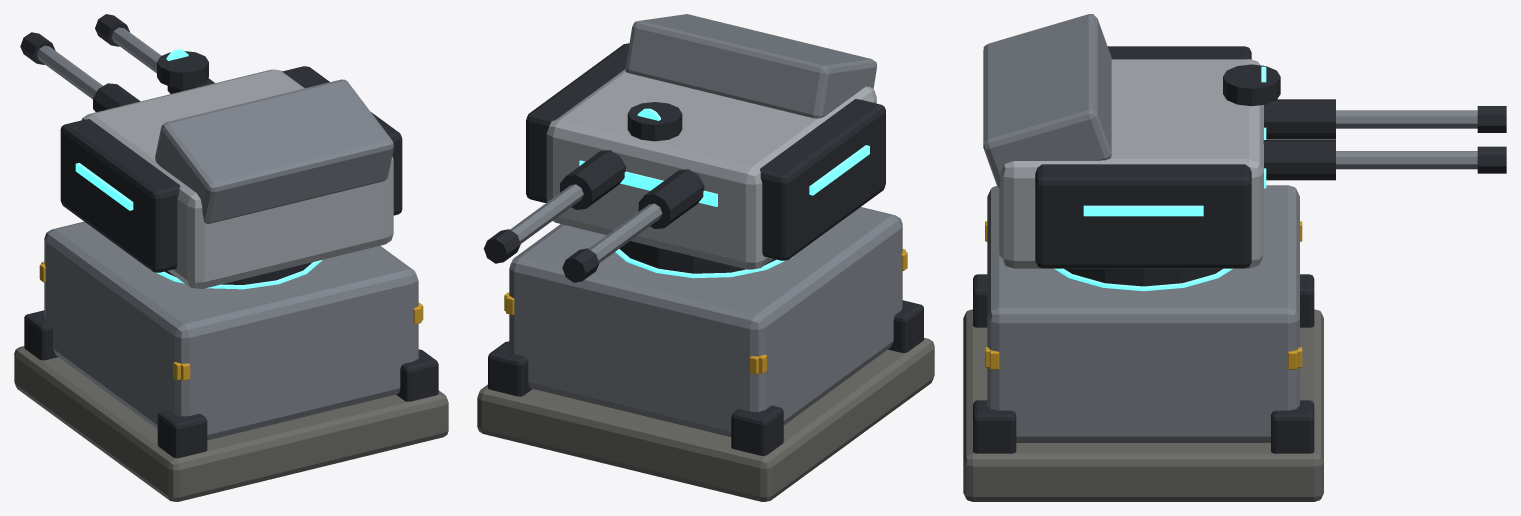
3 renders of one model, left to right at view 1: azimuth 30°, elevation 25°; view 2: azimuth 150°, elevation 25°; view 3: azimuth 270°, elevation 25°, orthographic. The views are drawn at different scales.
Parts seen in each view (by area): view 1: TurretBase, TurretHead, TurretGun; view 2: TurretBase, TurretHead, TurretGun; view 3: TurretBase, TurretHead, TurretGun.
Part boxes in pixels (x1=…): TurretBase: x1=14, y1=221, x2=448, y2=501; TurretHead: x1=60, y1=49, x2=402, y2=288; TurretGun: x1=20, y1=14, x2=214, y2=112; TurretBase: x1=477, y1=207, x2=934, y2=501; TurretHead: x1=526, y1=14, x2=885, y2=269; TurretGun: x1=483, y1=150, x2=704, y2=282; TurretBase: x1=963, y1=185, x2=1323, y2=501; TurretHead: x1=983, y1=14, x2=1280, y2=268; TurretGun: x1=1263, y1=99, x2=1506, y2=180.
Size of the model in its own units: 1.5 by 1.69 by 2.26.
